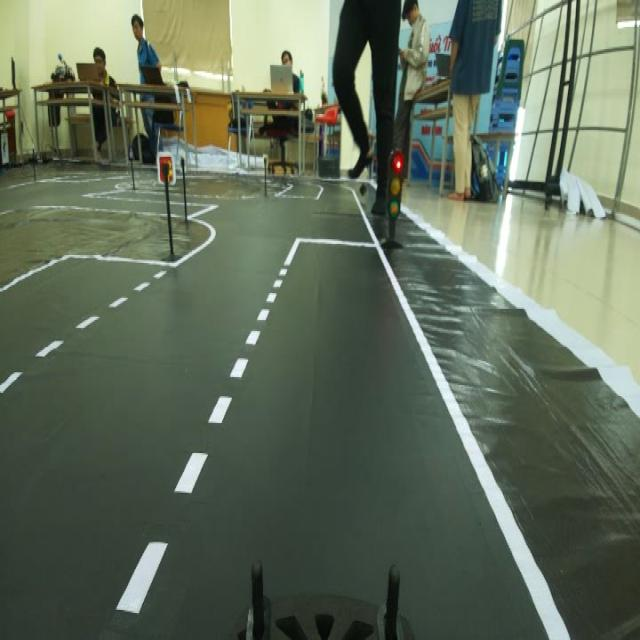trafficlight: (376, 148, 411, 254)
